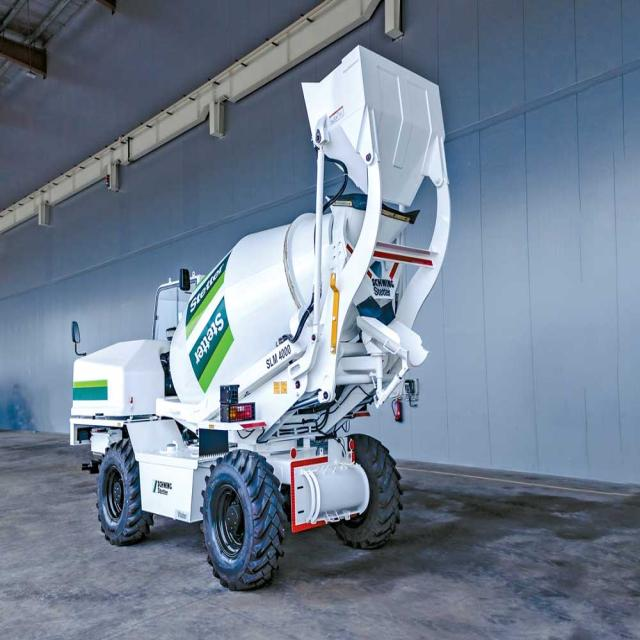truck: (70, 46, 453, 590)
